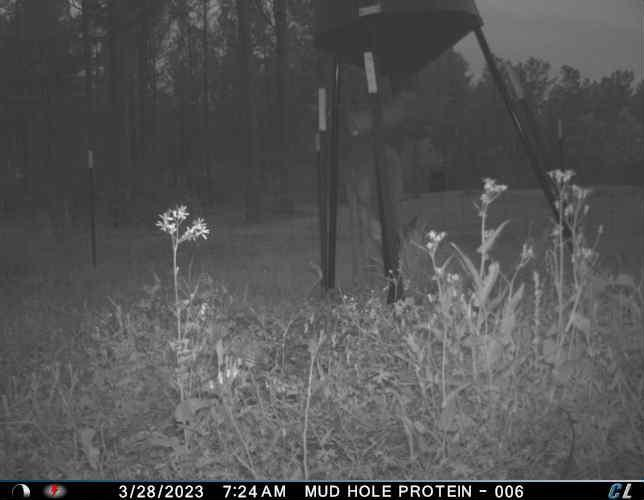Deer: (344, 135, 423, 300)
